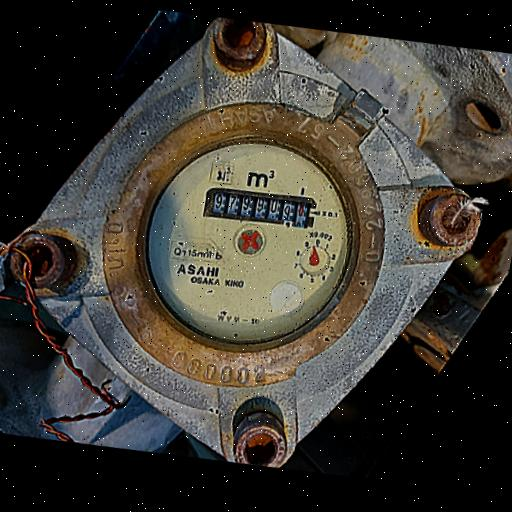0: (268, 196, 281, 218)
7: (226, 193, 239, 214)
8: (294, 201, 307, 227)
9: (212, 190, 227, 213), (282, 198, 295, 220), (254, 195, 267, 216), (241, 194, 253, 216)
border_water_meter_number: (202, 178, 319, 235)
